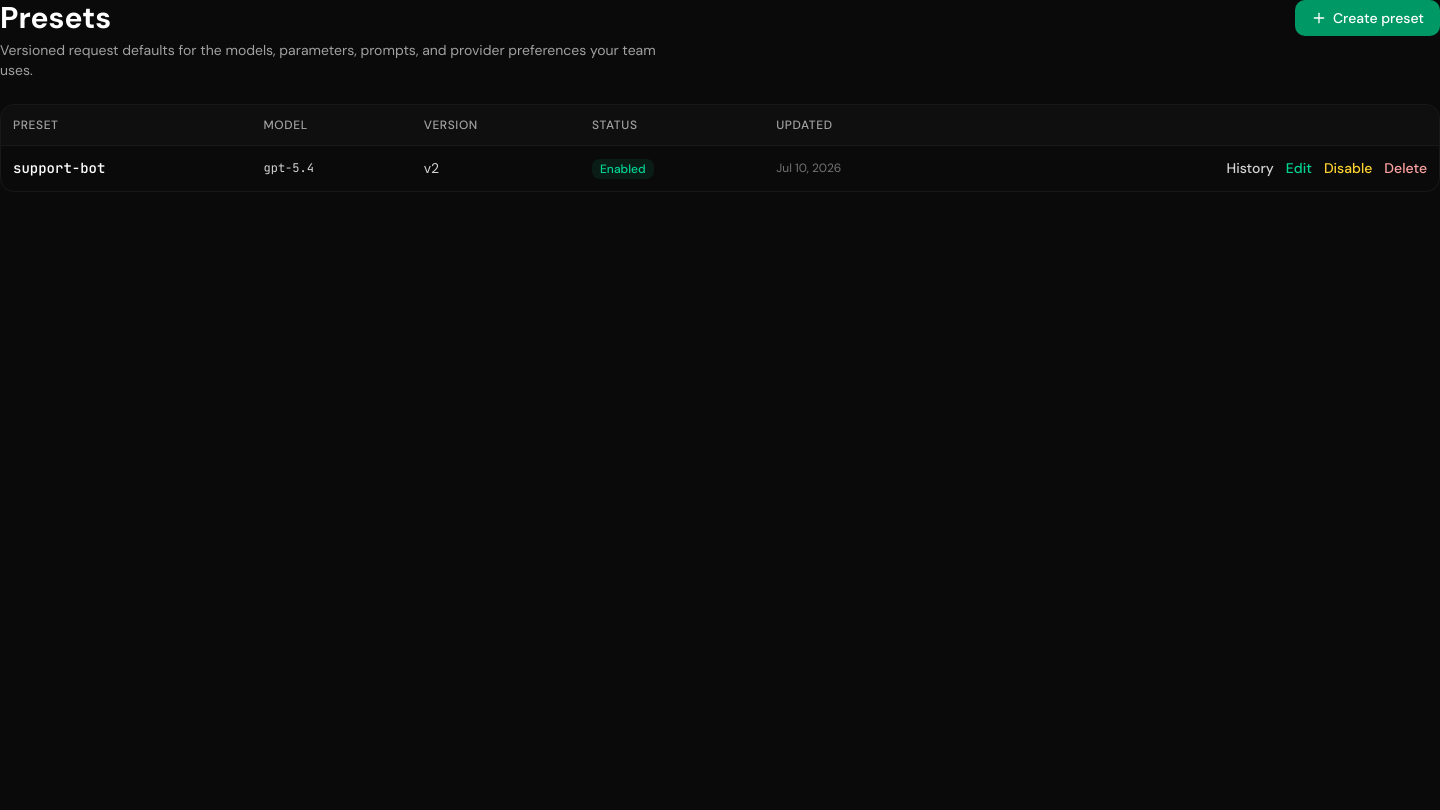
PresetsManager › requires confirmation before deleting a preset and never substitutes the disable endpoint
This screenshot has width=1440, height=810.
Check: the text "support-bot" is shown, box [1,145,252,190]
Click the button with aria-label "Delete support-bot": (1406, 168) [1384,158,1427,178]
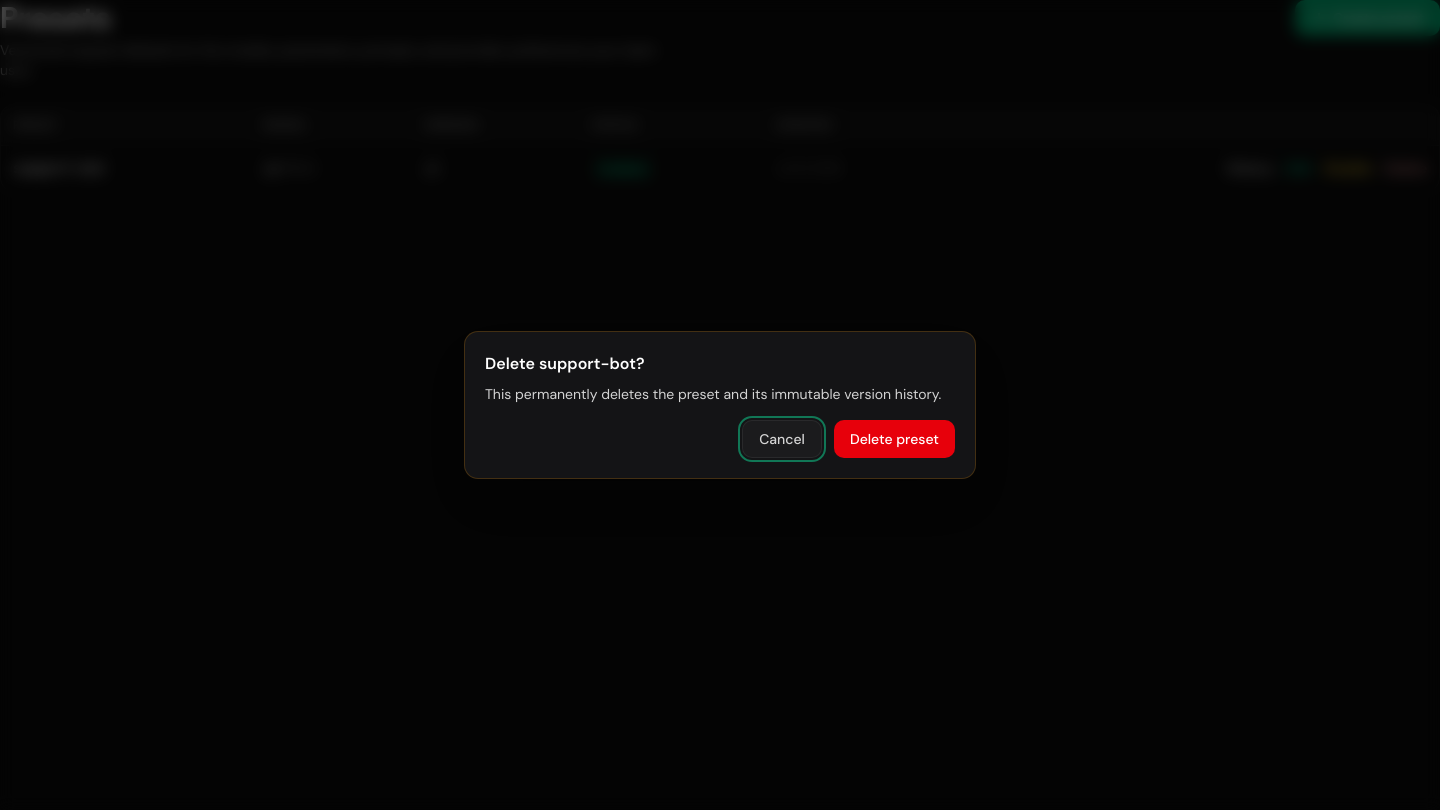
Check: the dialog shows "Delete support-bot?", box [485,353,644,374]
Click the button with aria-label "Confirm delete support-bot": (894, 439) [834,420,955,458]
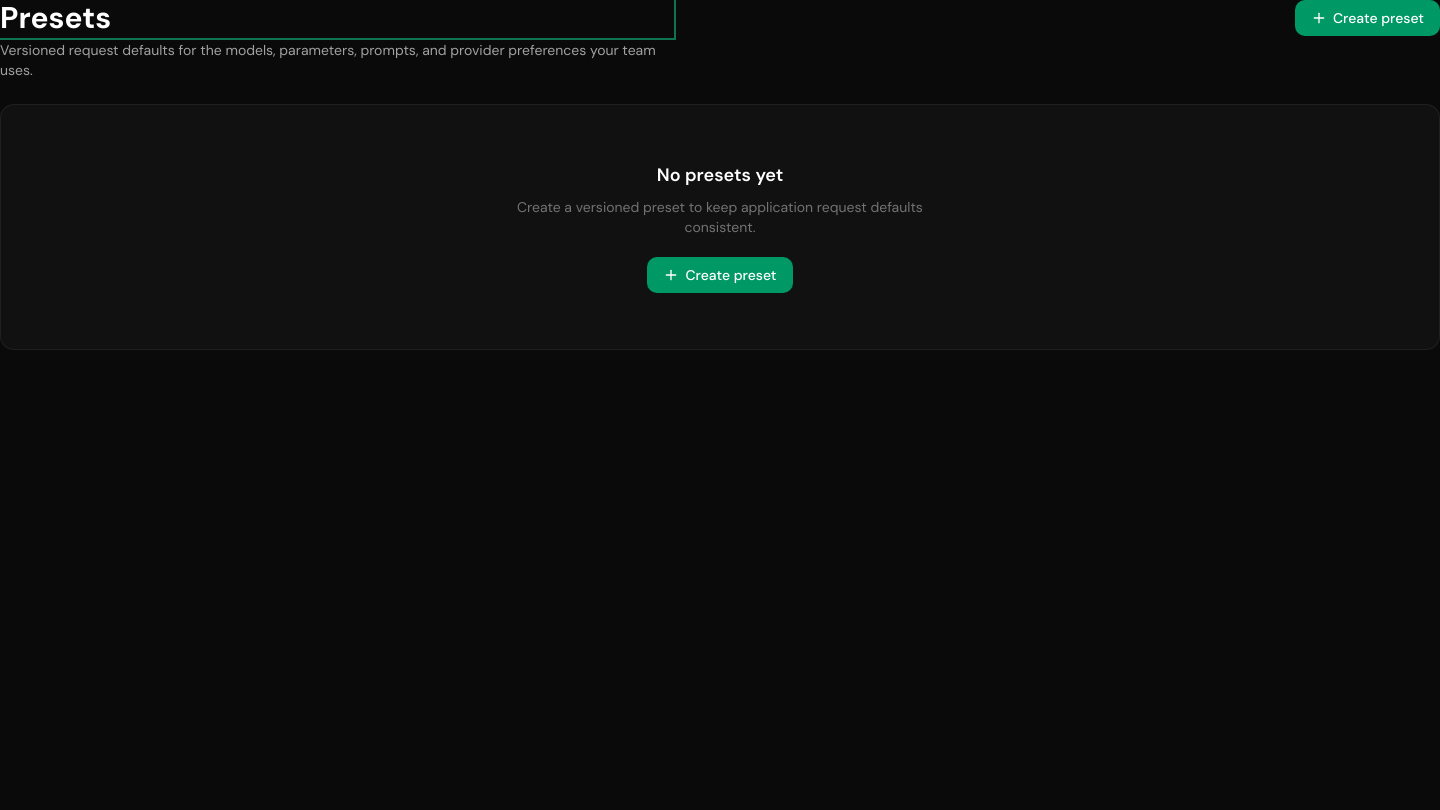
Check: the heading "No presets yet" is shown, box [657,163,783,187]
